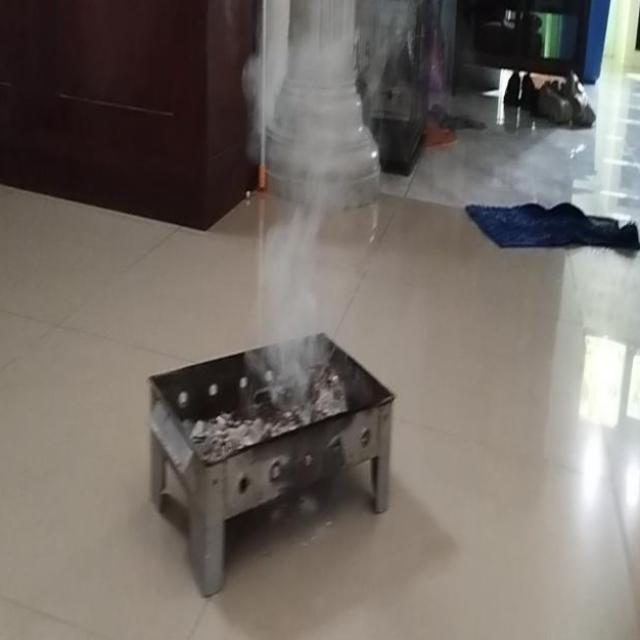fire: (236, 37, 379, 208), (258, 199, 330, 382)
